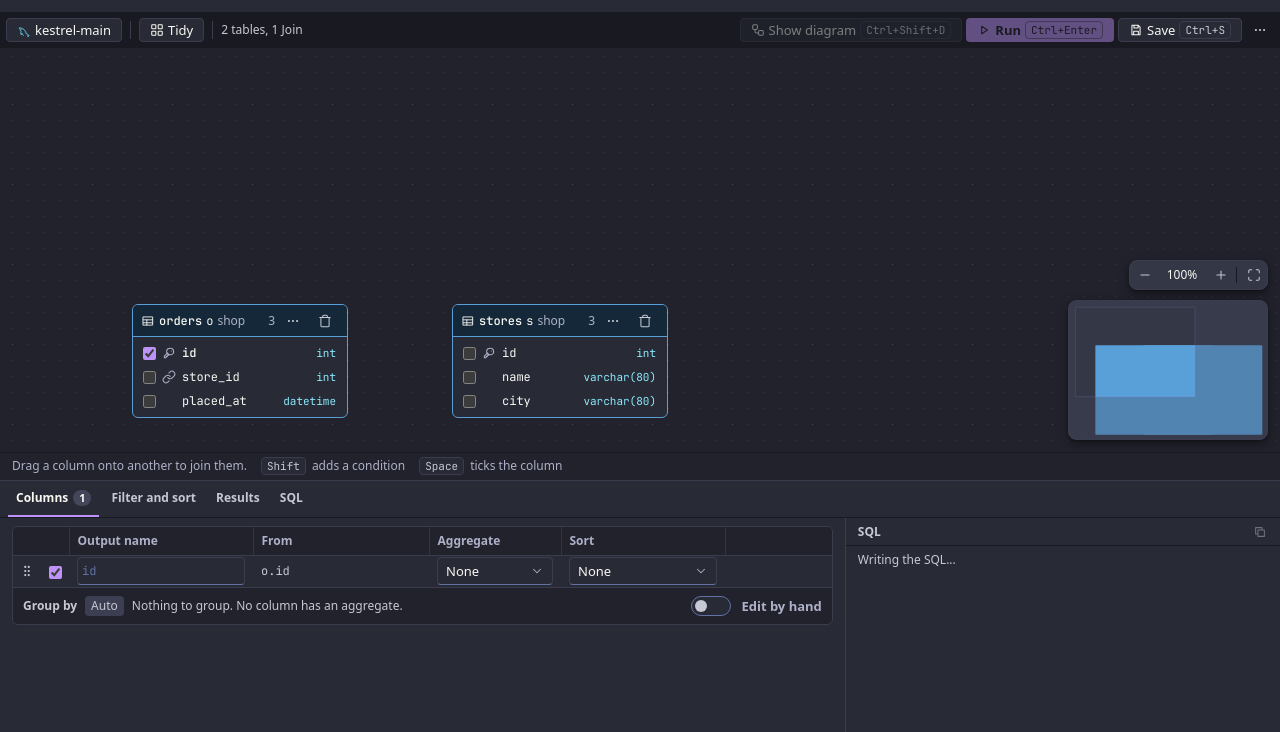
Test: item_39_filter_and_sort_has_three_bordered_sections_and_a_footer
The width and height of the screenshot is (1280, 732).
Click the tab "Filter and sort".
click(154, 499)  # box [103,481,204,517]
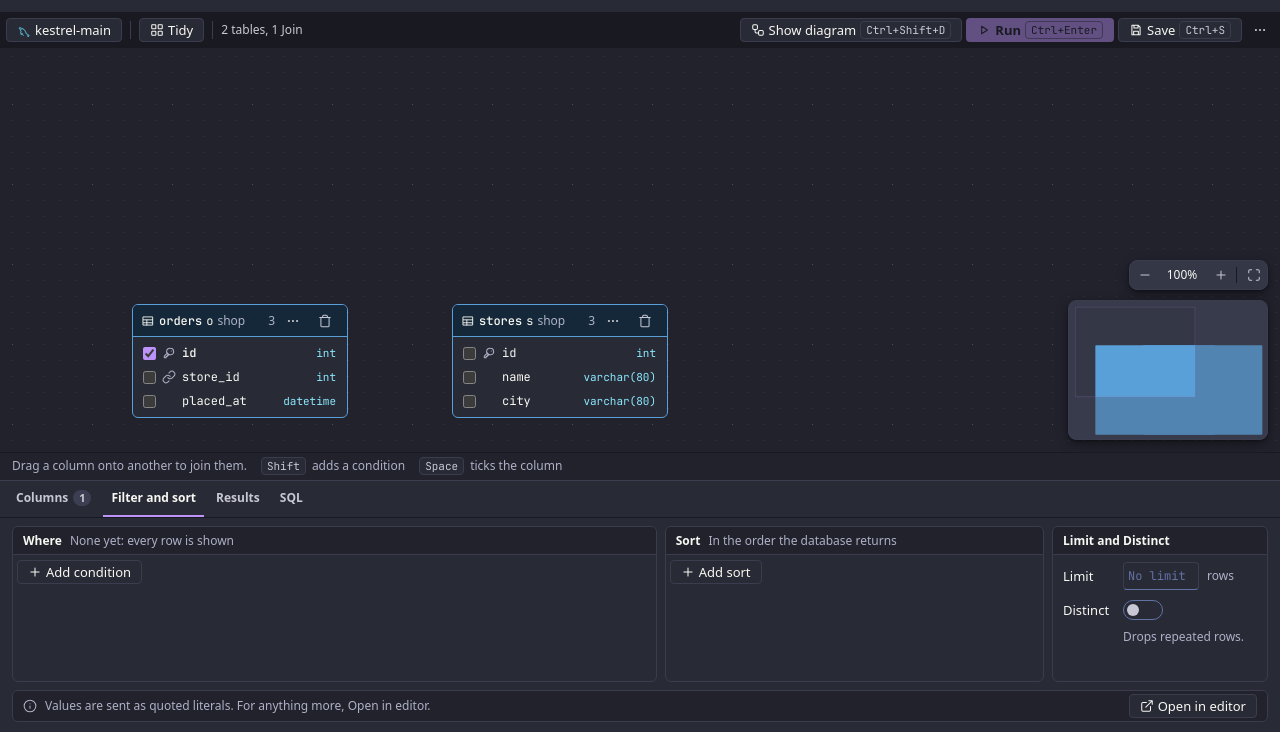
expect the text "None yet: every row is shown" is shown: met, box [70,532,234,548]
expect the text "In the order the database returns" is shown: met, box [708,532,897,548]
expect the text "Values are sent as quoted literals. For anything more, Open in editor." is shown: met, box [45,697,430,714]
